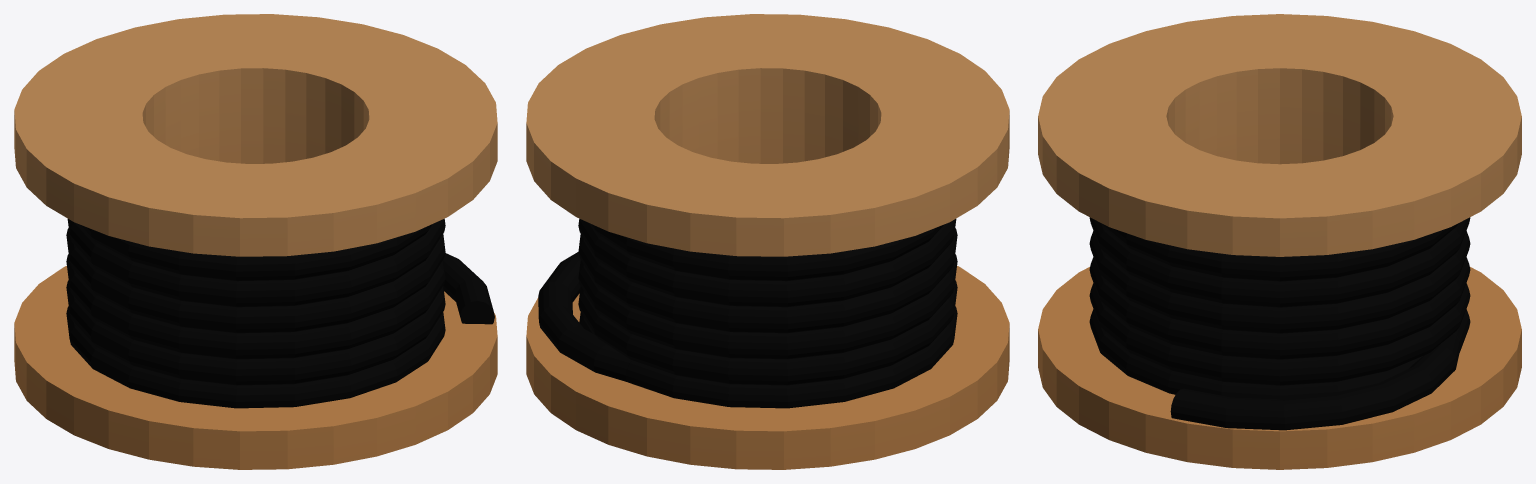
The model's file is SM_Int_Wire.fbx.
3 renders of one model, left to right at view 1: azimuth 30°, elevation 25°; view 2: azimuth 150°, elevation 25°; view 3: azimuth 270°, elevation 25°, orthographic.
Parts seen in each view (by area): view 1: SM_Int_Wire; view 2: SM_Int_Wire; view 3: SM_Int_Wire.
Part boxes in pixels (x1,y1,x2,y2): SM_Int_Wire: [14, 14, 497, 469]; SM_Int_Wire: [526, 14, 1009, 469]; SM_Int_Wire: [1038, 14, 1521, 469].
Bounding box in the file's own units: 1.01 × 0.5792 × 1.01.
